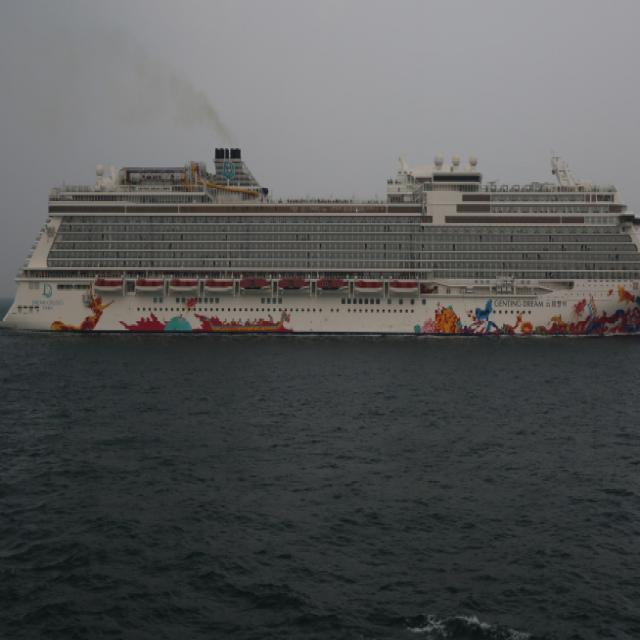cruises: (1, 133, 640, 359)
